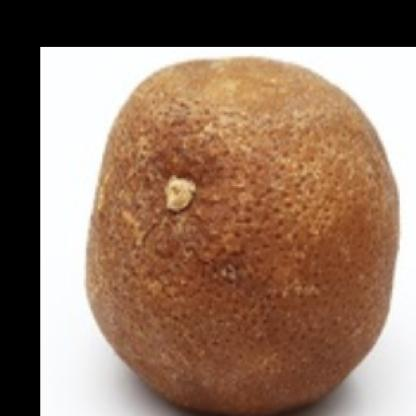rotten: (85, 59, 399, 411)
